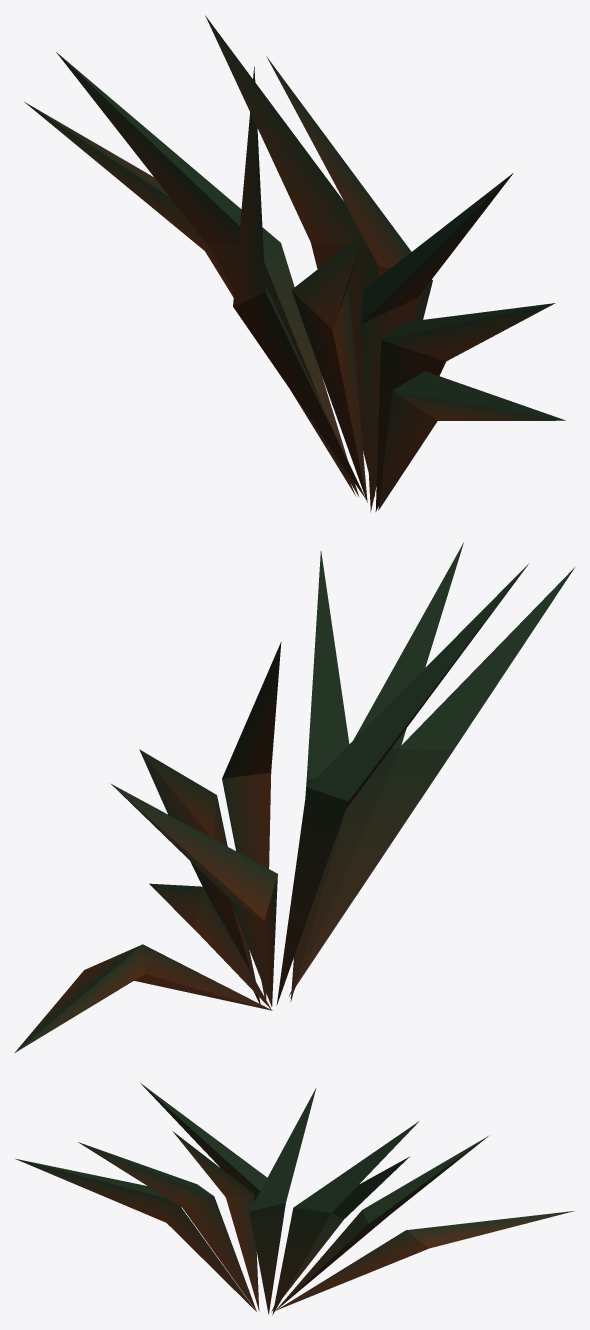
The model's file is c_grass_desert_aa.fbx.
3 views of the same model, one above another, from view 1: azimuth 30°, elevation 25°; view 2: azimuth 150°, elevation 25°; view 3: azimuth 270°, elevation 25° (orthographic). The views are drawn at different scales.
Parts seen in each view (by area): view 1: c_grass_desert_aa; view 2: c_grass_desert_aa; view 3: c_grass_desert_aa.
Boxes of the visible parts, bbox=[...] form: c_grass_desert_aa: bbox=[24, 15, 565, 511]; c_grass_desert_aa: bbox=[15, 542, 574, 1052]; c_grass_desert_aa: bbox=[15, 1083, 574, 1315].
Size of the model in its own units: 0.3173 by 0.7064 by 1.68.
